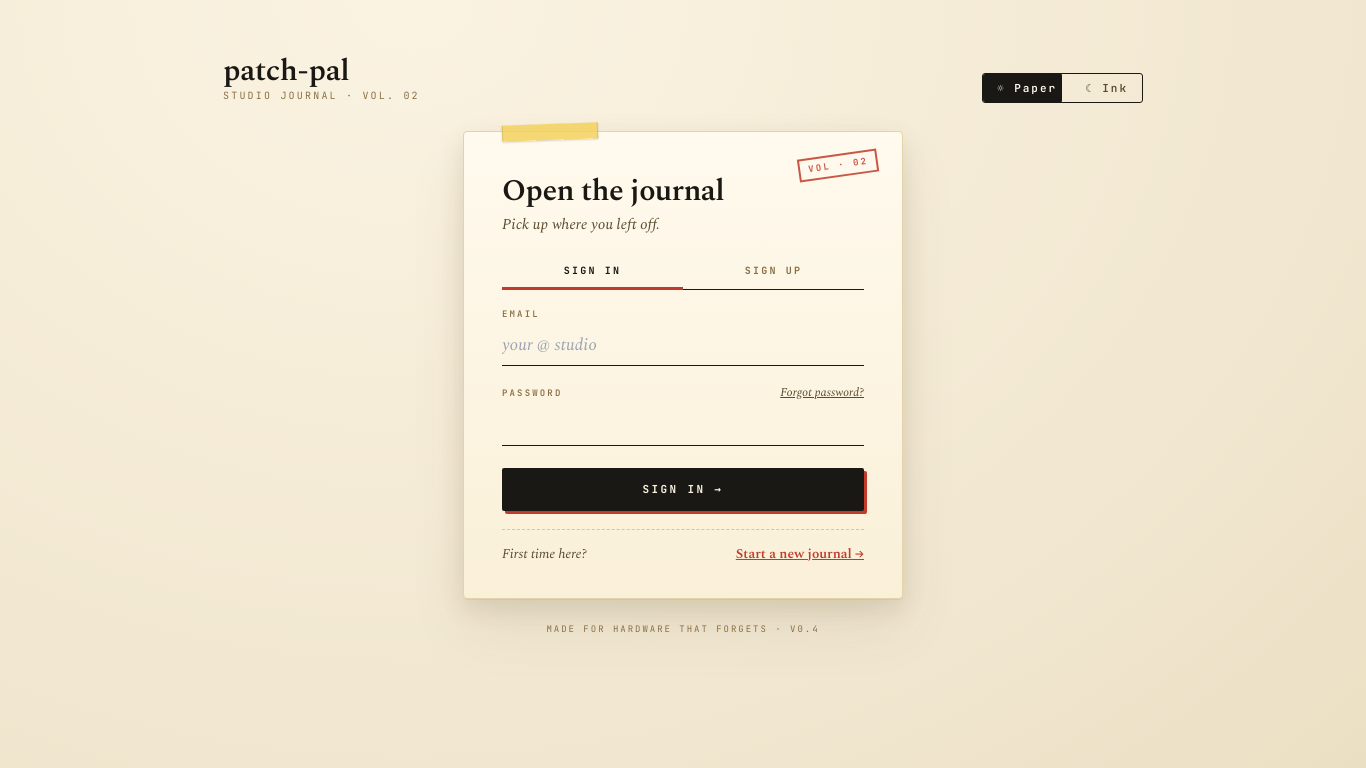
it: Auth page › switching to sign-up tab shows the sign-up form
This screenshot has width=1366, height=768.
Click the tab "Sign up". click: (774, 272)
box: x1=683 y1=254 x2=864 y2=290
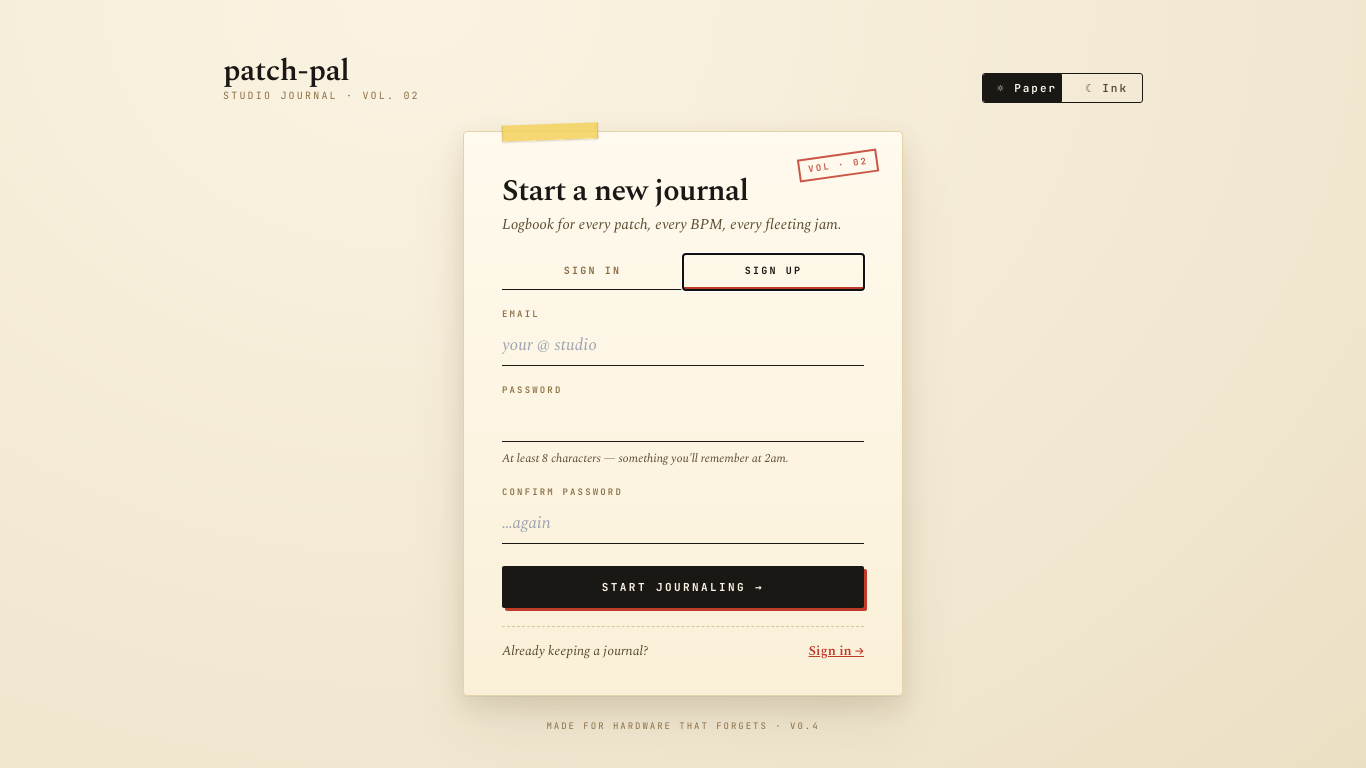
Now the button "Start journaling →" is shown, box x1=502 y1=566 x2=864 y2=608
